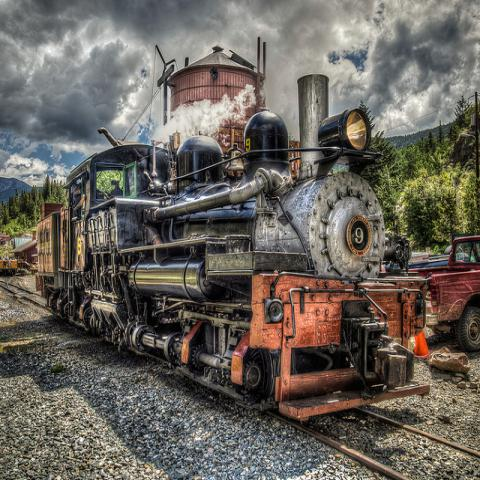truck: (424, 269, 480, 354), (408, 237, 479, 276)
